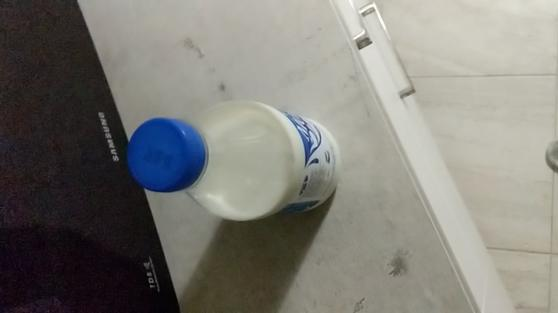milk: (116, 96, 369, 239)
